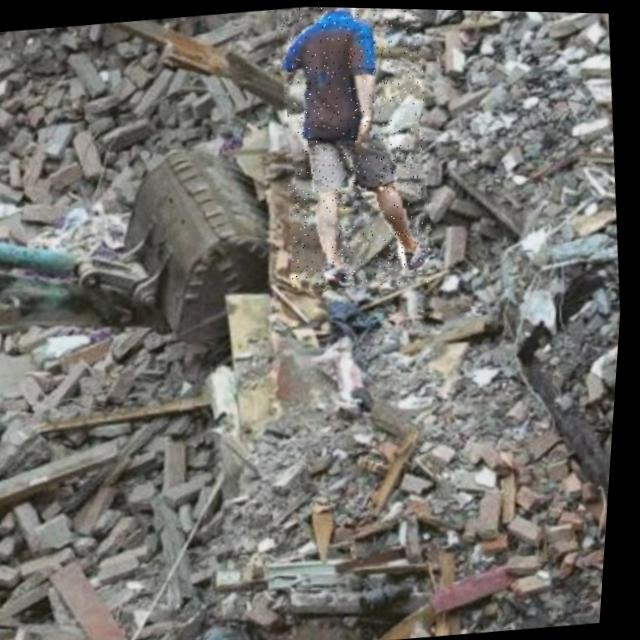Person in Rubble: (265, 5, 448, 294)
